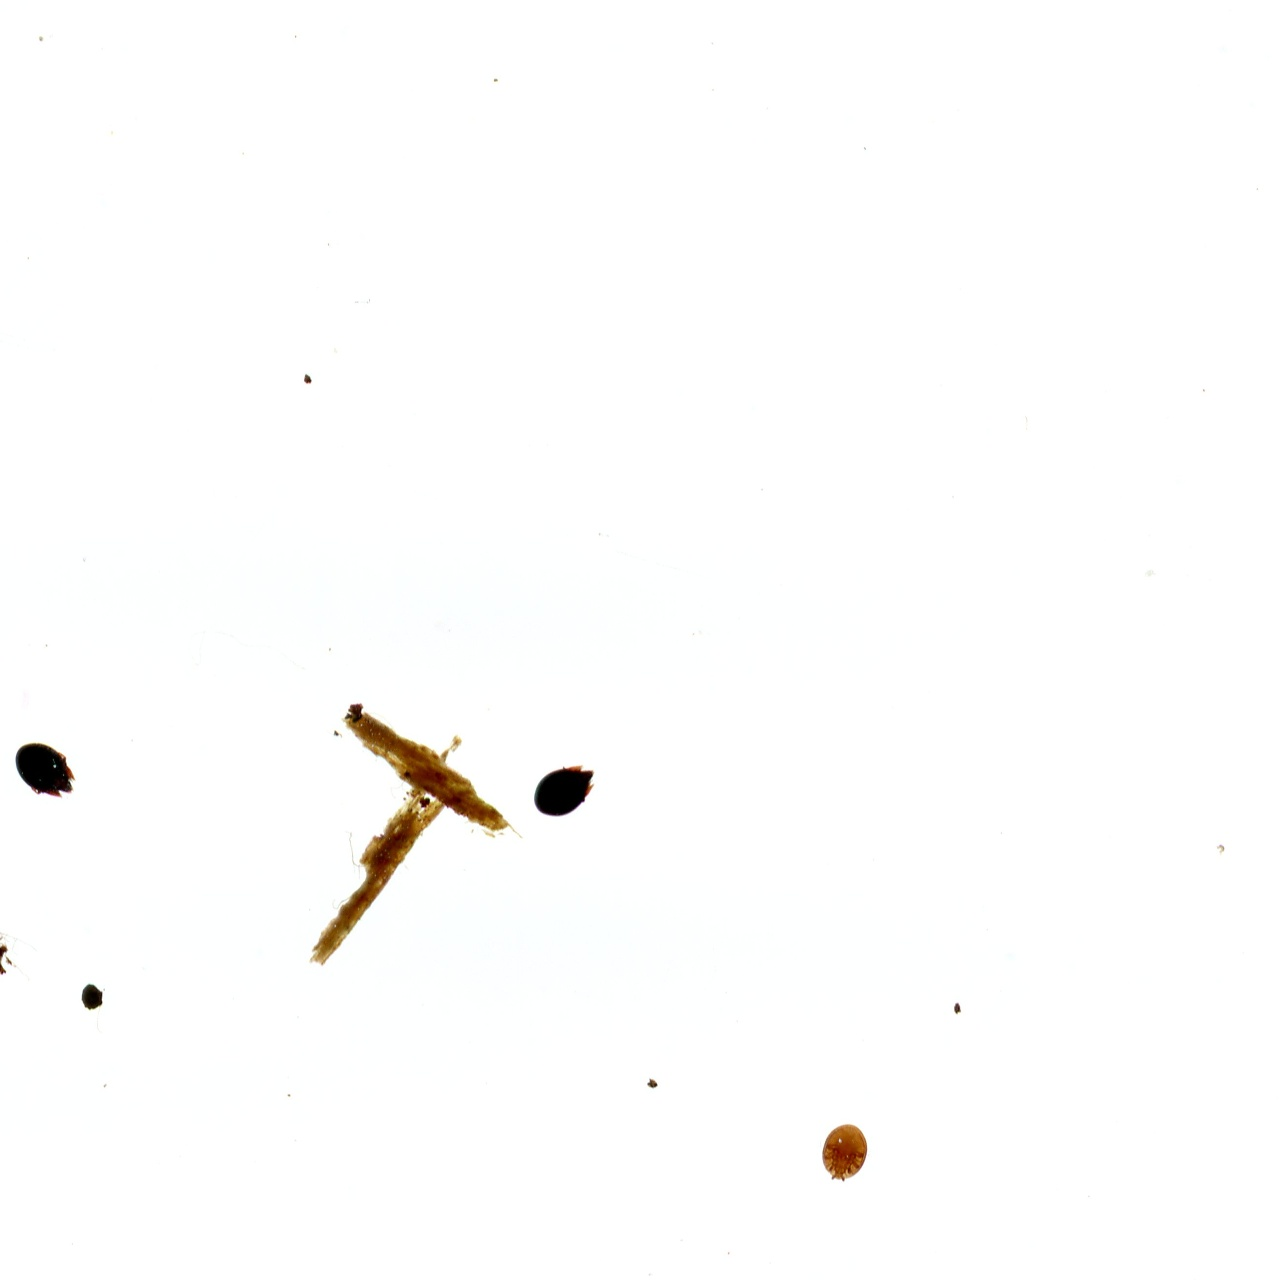arthropod: (12, 738, 79, 802), (531, 762, 599, 821), (820, 1121, 872, 1185)
